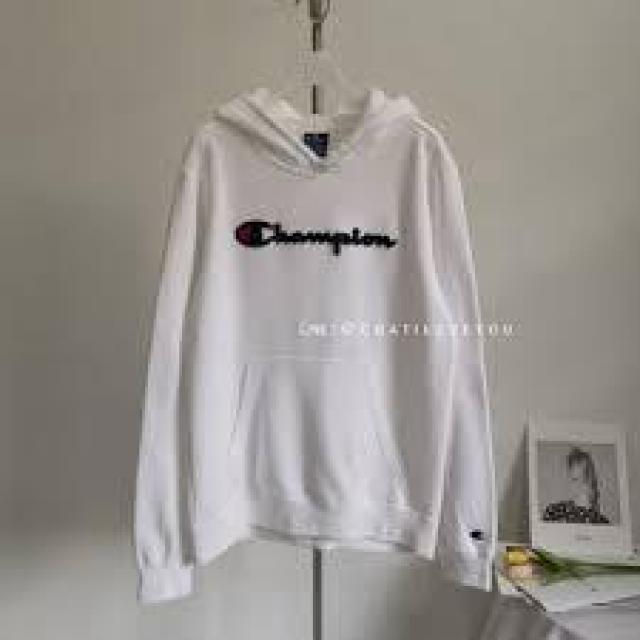sweater: (140, 83, 500, 600)
